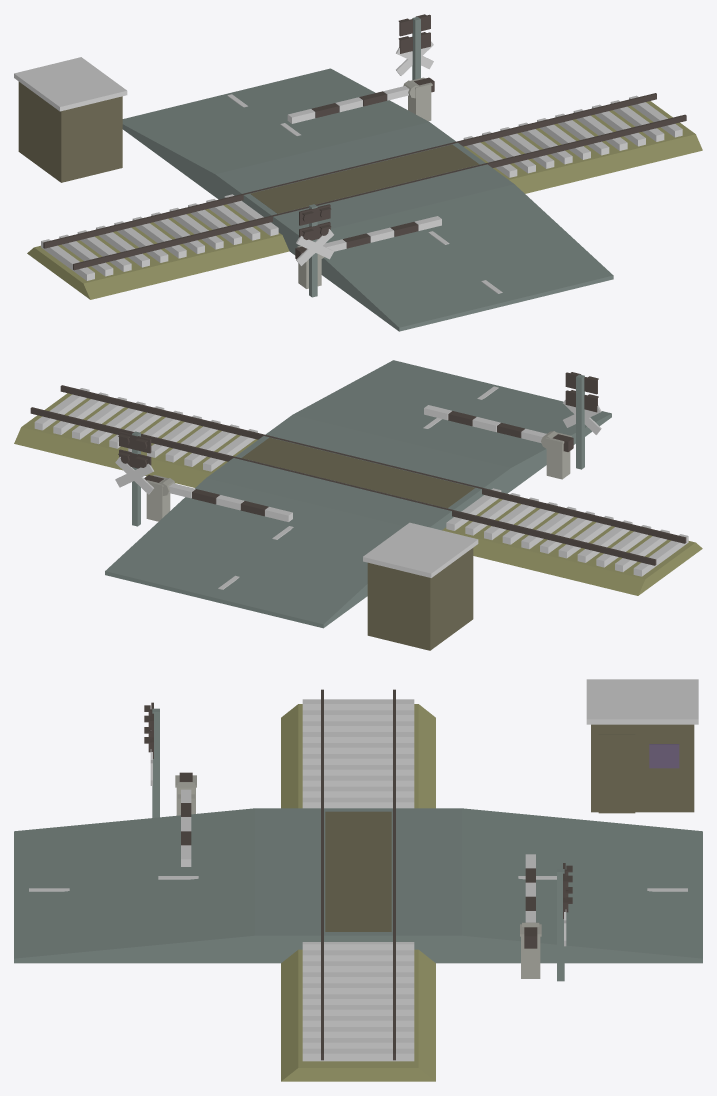
Rendered from SM_PasoNivel_90E_v1_FocosDobles_LOD0.fbx.
3 renders of one model, top to bottom at view 1: azimuth 30°, elevation 25°; view 2: azimuth 150°, elevation 25°; view 3: azimuth 270°, elevation 25°, orthographic. The views are drawn at different scales.
Visible parts, largest first — view 1: SM_paso_nivel_kit_v21_LOD0, Barrera_1, Barrera_2; view 2: SM_paso_nivel_kit_v21_LOD0, Barrera_2, Barrera_1; view 3: SM_paso_nivel_kit_v21_LOD0, Barrera_2, Barrera_1.
Part boxes in pixels (<box>): SM_paso_nivel_kit_v21_LOD0: <box>14,14,702,331</box>; Barrera_1: <box>287,77,434,123</box>; Barrera_2: <box>295,216,441,259</box>; SM_paso_nivel_kit_v21_LOD0: <box>14,360,702,650</box>; Barrera_2: <box>424,405,573,451</box>; Barrera_1: <box>144,475,292,521</box>; SM_paso_nivel_kit_v21_LOD0: <box>14,679,702,1081</box>; Barrera_2: <box>177,772,194,866</box>; Barrera_1: <box>522,854,539,948</box>.
Size of the model in its own units: 20 by 2.8 by 16.
